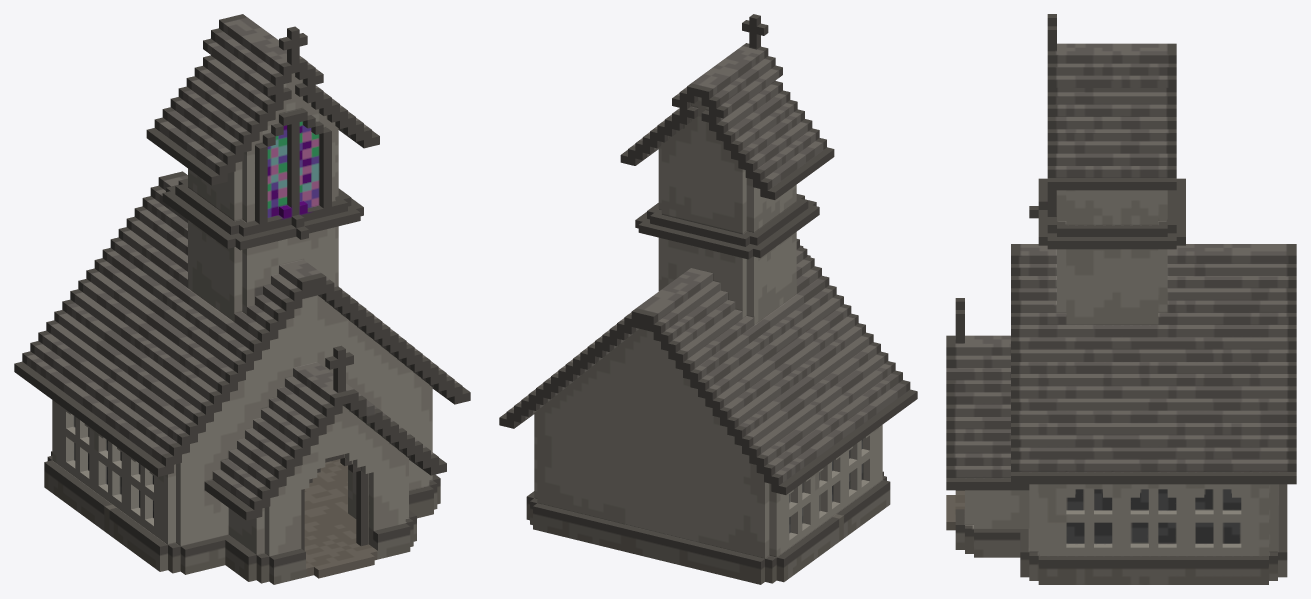
Rendered from church.fbx.
The picture shows the model from 3 angles, left to right: view 1: azimuth 30°, elevation 25°; view 2: azimuth 150°, elevation 25°; view 3: azimuth 270°, elevation 25°; orthographic projection. The views are drawn at different scales.
Parts seen in each view (by area): view 1: church; view 2: church; view 3: church.
Boxes of the visible parts, left/top/right/bottom form: church: left=14, top=14, right=470, bottom=584; church: left=499, top=14, right=917, bottom=584; church: left=946, top=14, right=1296, bottom=584.
Bounding box in the file's own units: 10.82 × 16.65 × 10.55.
